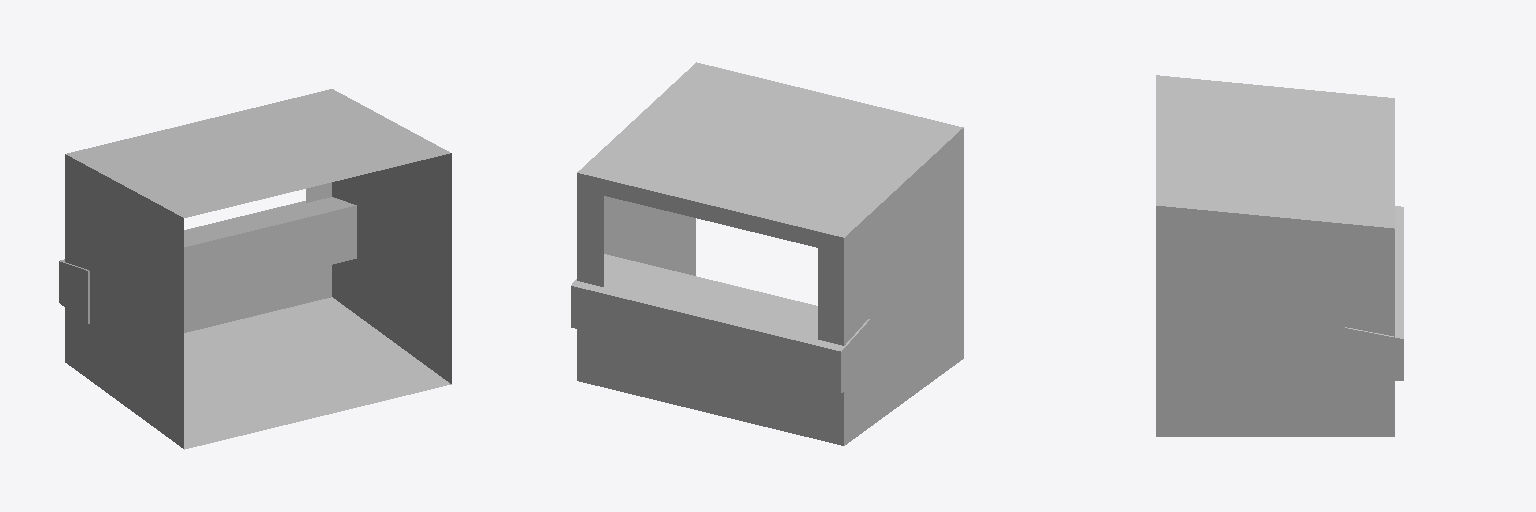
Rendered from body.obj.
3 renders of one model, left to right at view 1: azimuth 30°, elevation 25°; view 2: azimuth 150°, elevation 25°; view 3: azimuth 270°, elevation 25°, orthographic.
Visible parts, largest first — view 1: Cube_Cube.003; view 2: Cube_Cube.003; view 3: Cube_Cube.003.
Boxes of the visible parts, x1=… form: Cube_Cube.003: x1=59, y1=89, x2=451, y2=449; Cube_Cube.003: x1=571, y1=62, x2=963, y2=445; Cube_Cube.003: x1=1156, y1=75, x2=1403, y2=436.
Bounding box in the file's own units: 10.65 × 8.69 × 8.45.